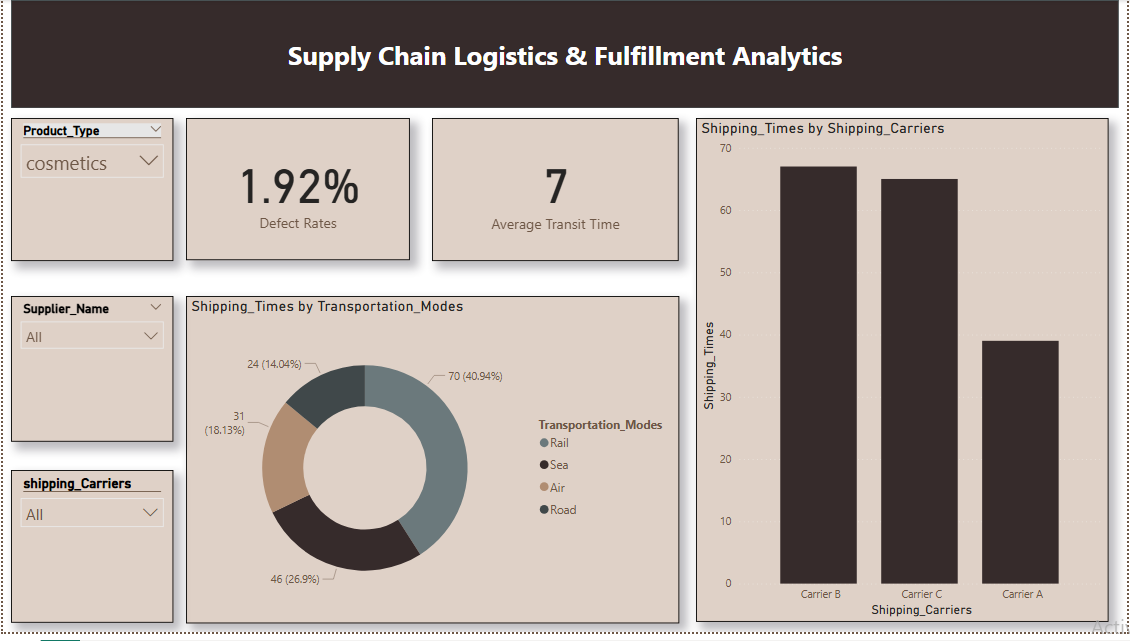

This screenshot's page, from the dashboard's own definition file:
{"tool":"powerbi","page":{"name":"Page 1","canvas":[1280,720],"ordinal":0},"visuals":[{"type":"shape","box":[9,0,1262,123.4],"z":0},{"type":"columnChart","fields":{"Category":["public logistics_data.shipping_carriers"],"Y":["Sum(public logistics_data.shipping_times)"]},"box":[790,134.4,470,574.4],"z":1000},{"type":"donutChart","fields":{"Category":["public logistics_data.transportation_modes"],"Y":["Sum(public logistics_data.shipping_times)"]},"box":[208.2,336.7,561.6,372.7],"z":2000},{"type":"slicer","fields":{"Values":["public inventory_data.product_type"]},"box":[9.1,134.4,184.6,162.9],"z":3000},{"type":"slicer","fields":{"Values":["public logistics_data.shipping_carriers"]},"box":[9.1,535.4,184.6,174.3],"z":4000},{"type":"slicer","fields":{"Values":["public supplier_data.supplier_name"]},"box":[9.1,337.2,184.6,166.3],"z":5000},{"type":"card","fields":{"Values":["public inventory_data.Defect Rates"]},"box":[208.5,134.4,255.2,161.8],"z":6000},{"type":"card","fields":{"Values":["public inventory_data.Average Transit Time"]},"box":[488.7,134.4,281.4,162.9],"z":7000}]}

Visuals, with their boxes in screenshot pixels (x1, y1, x2, y2), scaled from the page's 1280x720 canvas onto the 1130x641 screenshot:
shape: [x1=8, y1=0, x2=1122, y2=110]
columnChart - public logistics_data.shipping_carriers x Sum(public logistics_data.shipping_times): [x1=697, y1=120, x2=1112, y2=631]
donutChart - public logistics_data.transportation_modes x Sum(public logistics_data.shipping_times): [x1=184, y1=300, x2=680, y2=632]
slicer - public inventory_data.product_type: [x1=8, y1=120, x2=171, y2=265]
slicer - public logistics_data.shipping_carriers: [x1=8, y1=477, x2=171, y2=632]
slicer - public supplier_data.supplier_name: [x1=8, y1=300, x2=171, y2=448]
card - public inventory_data.Defect Rates: [x1=184, y1=120, x2=409, y2=264]
card - public inventory_data.Average Transit Time: [x1=431, y1=120, x2=680, y2=265]
